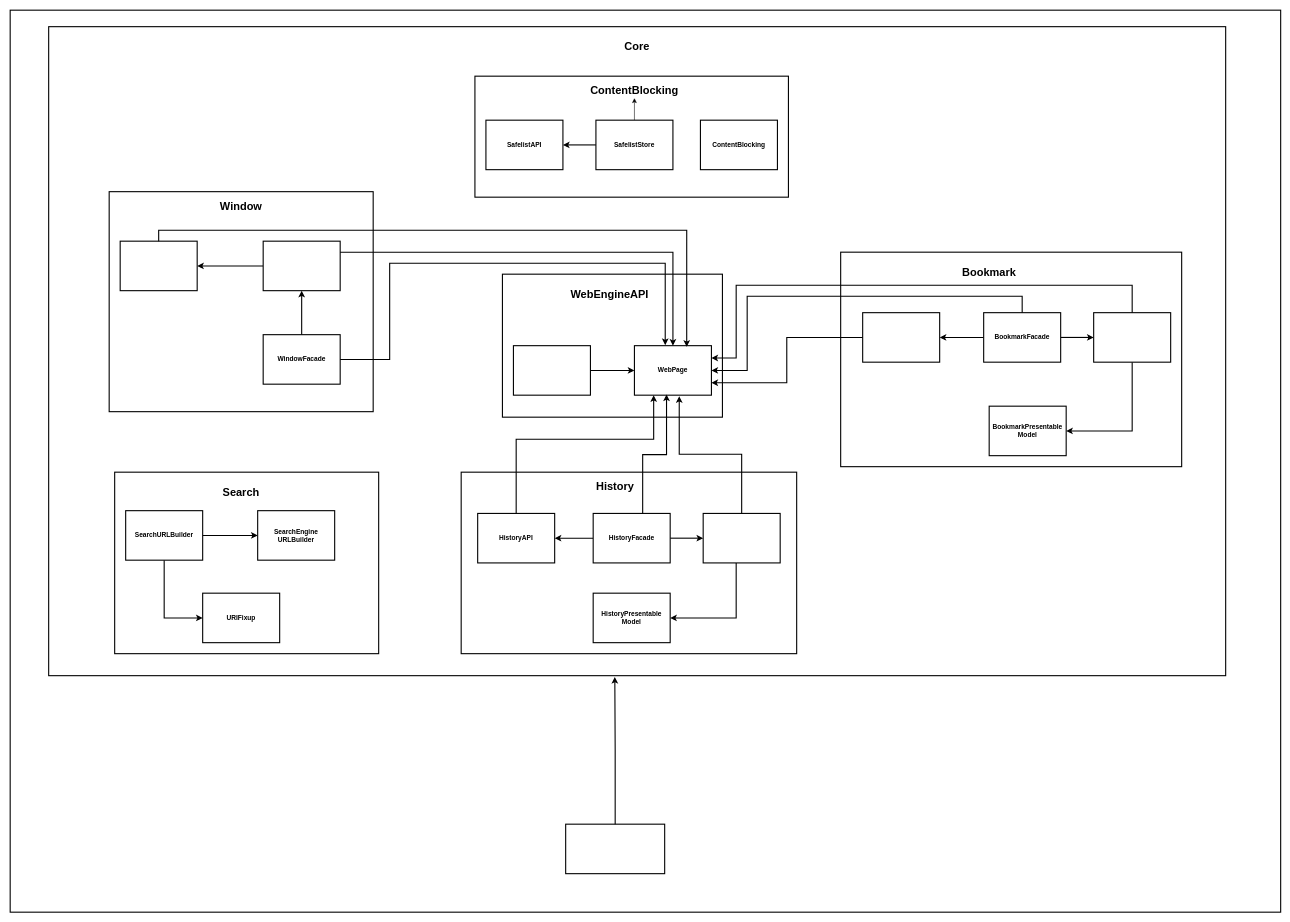
This 1290x922 diagram has some shape labels left out. Here are the shapes that lost their labels. From the top down, the box of each, then its label:
(119, 240, 197, 291): WindowPresentable Model
(262, 240, 340, 291): WindowPresenter
(862, 312, 940, 362): BookmarkAPI
(1093, 312, 1171, 362): BookmarkPresenter
(513, 345, 591, 395): WebEngineContract
(702, 513, 780, 563): HistoryPresenter
(565, 823, 665, 874): Client (macOS / iOS / visionOS)
